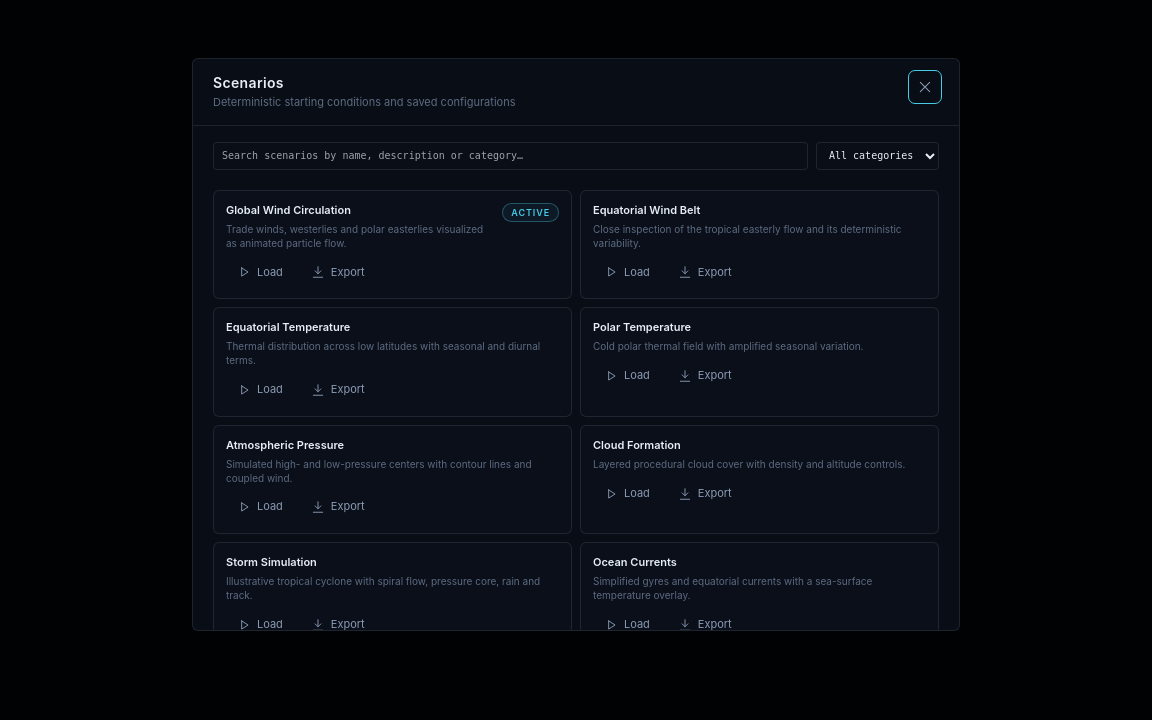
Test: ScenarioBrowser › filters scenarios by description text
The image size is (1152, 720).
Type "cyclone" into the search field labelled "Search scenarios" at (510, 156), box [213, 142, 808, 170]
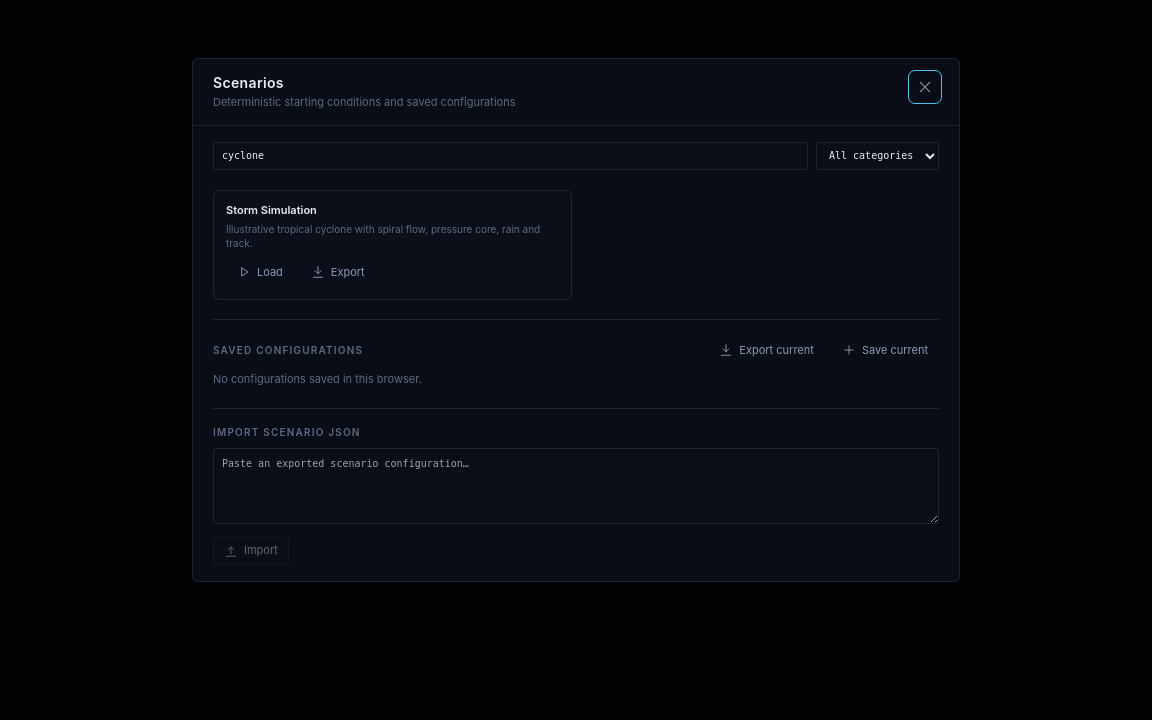
Expected: the text "Storm Simulation" is shown, [226, 203, 317, 217]
Expected: the text "Global Wind Circulation" is gone
